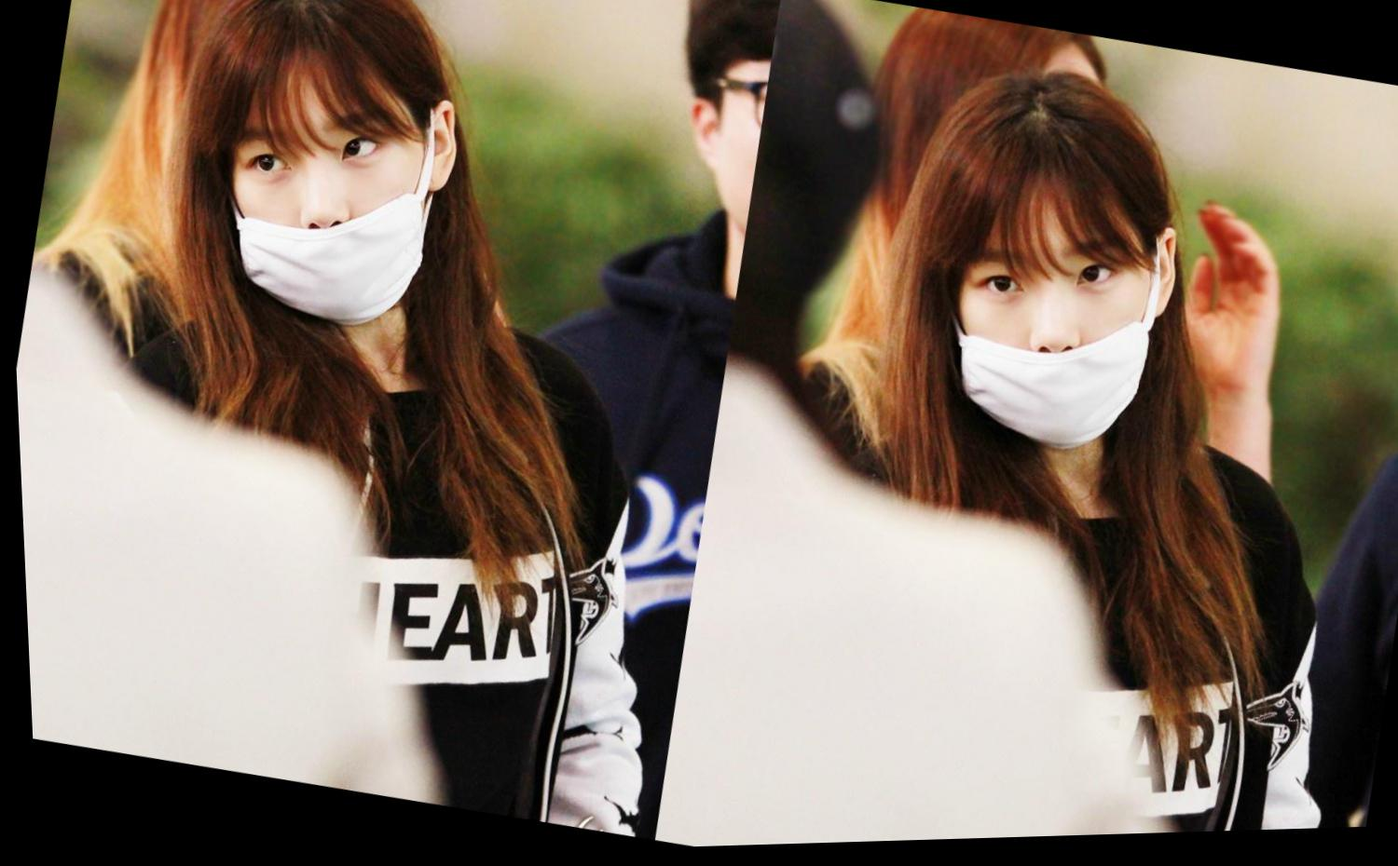WRONG: (199, 84, 450, 343), (922, 213, 1162, 473)
